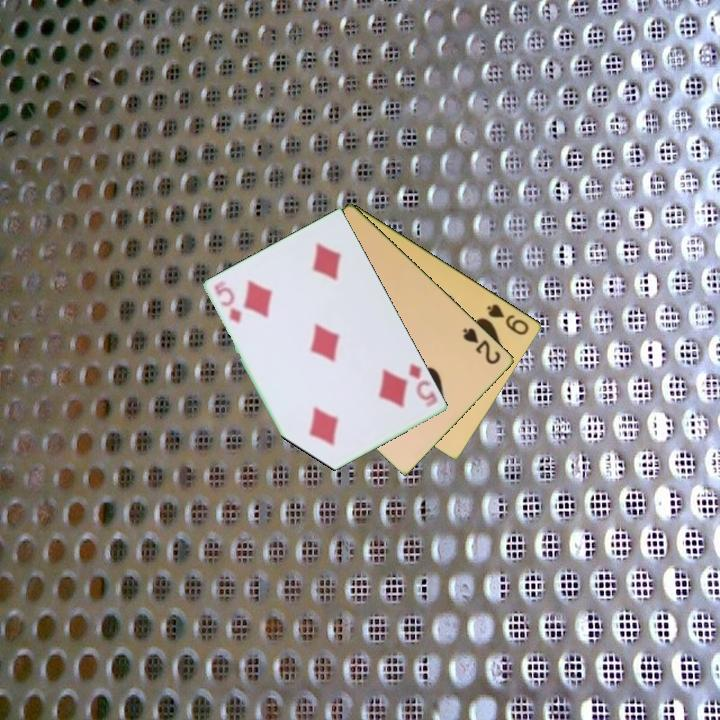2s: (459, 324, 504, 367)
5d: (406, 359, 441, 410), (211, 282, 245, 327)
9s: (483, 300, 532, 338)
